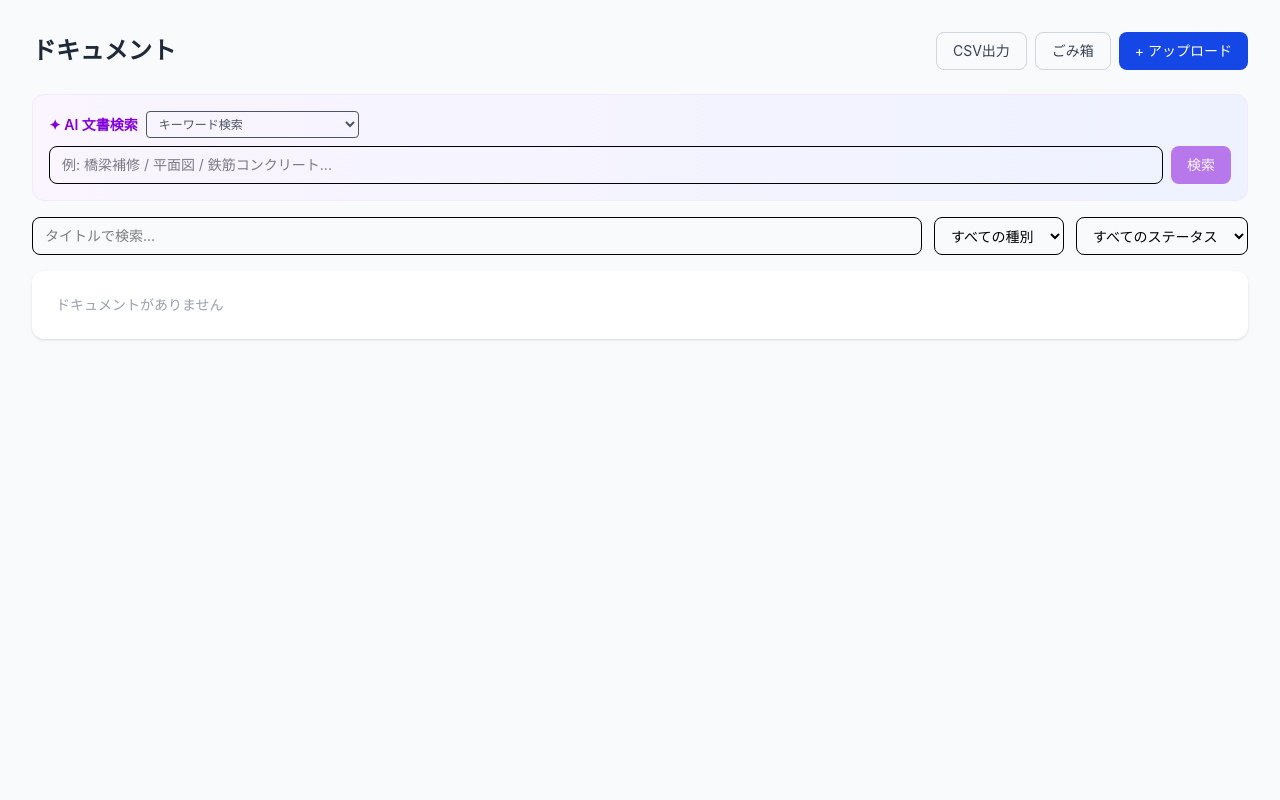
Test case: Documents › shows upload form when button clicked
Click the button "+ アップロード" at point(1183, 51), box [1119,32,1248,70]
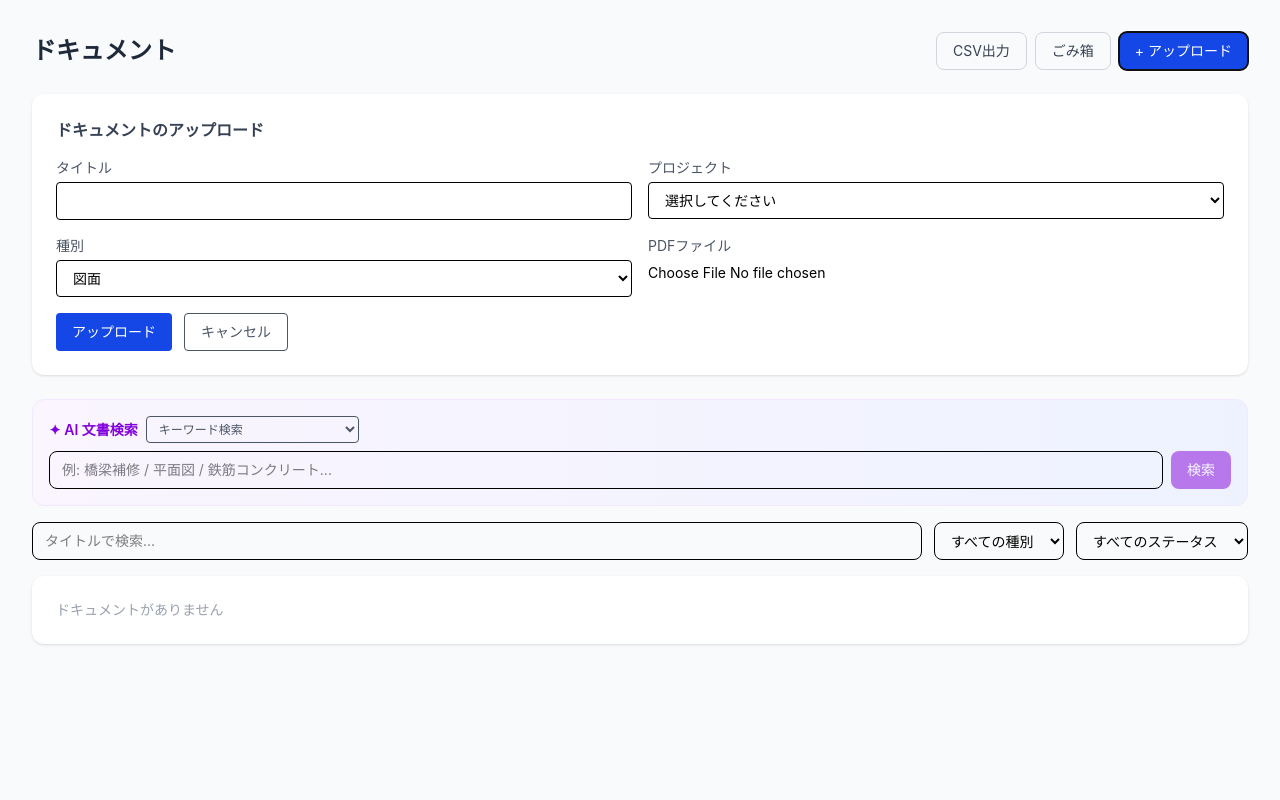
Result: the heading "ドキュメントのアップロード" is shown at [56,120,264,140]
Result: the field labelled "タイトル" is shown at [56,182,632,220]
Result: the dropdown labelled "プロジェクト" is shown at [648,182,1224,219]
